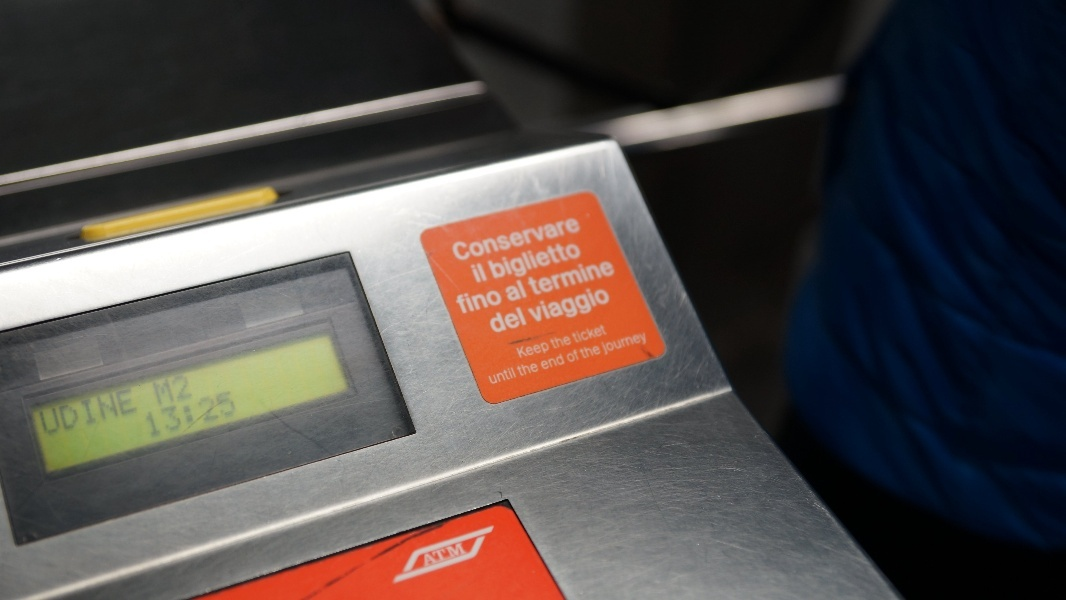text: (49, 388, 64, 435), (65, 388, 80, 435), (81, 388, 96, 435), (97, 388, 112, 435), (113, 388, 128, 435), (465, 217, 480, 263), (481, 217, 496, 263), (497, 217, 512, 263), (513, 217, 528, 263), (529, 217, 544, 263), (545, 217, 560, 263), (561, 217, 576, 263), (497, 239, 512, 285), (513, 239, 528, 285), (529, 239, 544, 285), (545, 239, 560, 285), (561, 239, 576, 285), (145, 391, 160, 437), (161, 391, 176, 437), (177, 391, 192, 437), (193, 391, 208, 437), (209, 391, 224, 437), (529, 284, 544, 327), (545, 284, 560, 327), (561, 284, 576, 327), (577, 284, 592, 327), (593, 284, 608, 327), (450, 217, 464, 263), (529, 257, 544, 296), (545, 257, 560, 296), (561, 257, 576, 296), (577, 257, 592, 296), (593, 257, 608, 296), (225, 391, 237, 437), (177, 374, 193, 406), (161, 374, 176, 406), (513, 306, 529, 335), (497, 306, 512, 335), (39, 388, 48, 435), (487, 239, 496, 285), (513, 279, 529, 303), (129, 388, 137, 435), (465, 290, 480, 315), (481, 290, 496, 315), (433, 543, 448, 568), (449, 543, 464, 568), (609, 257, 618, 296), (609, 333, 624, 356), (625, 333, 640, 356), (577, 324, 592, 344), (593, 324, 607, 344), (577, 239, 583, 285), (453, 290, 464, 315), (529, 341, 544, 359), (497, 367, 512, 385), (545, 353, 560, 371), (487, 306, 496, 335), (577, 217, 582, 263), (153, 374, 160, 406), (470, 262, 480, 284), (516, 341, 528, 359), (578, 345, 592, 360), (497, 290, 505, 315), (424, 543, 432, 568), (504, 279, 512, 303), (481, 262, 489, 284), (565, 348, 576, 364), (524, 284, 528, 327), (516, 363, 528, 377), (601, 333, 608, 356), (549, 336, 560, 350), (561, 336, 572, 350), (488, 367, 496, 385), (529, 363, 539, 377), (641, 333, 647, 356), (593, 345, 602, 360), (609, 284, 612, 327), (525, 257, 528, 296), (545, 341, 551, 359), (571, 324, 576, 344), (513, 367, 518, 385), (539, 353, 544, 371), (561, 353, 566, 371), (465, 543, 468, 568), (577, 348, 580, 364)
